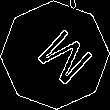M_SW: (21, 21, 89, 89)
